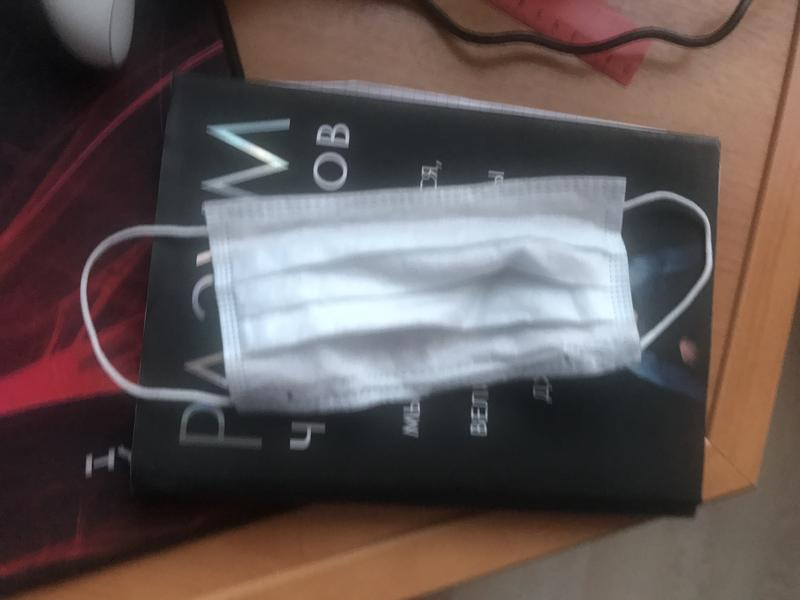medical_mask: (83, 175, 711, 411)
